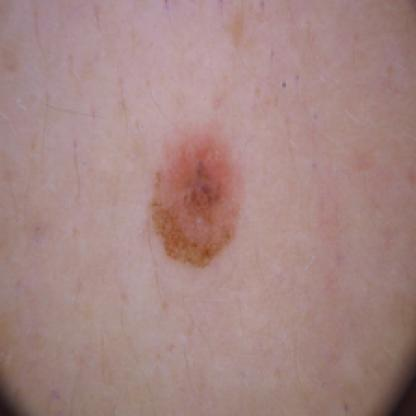benign: (145, 130, 252, 269)
